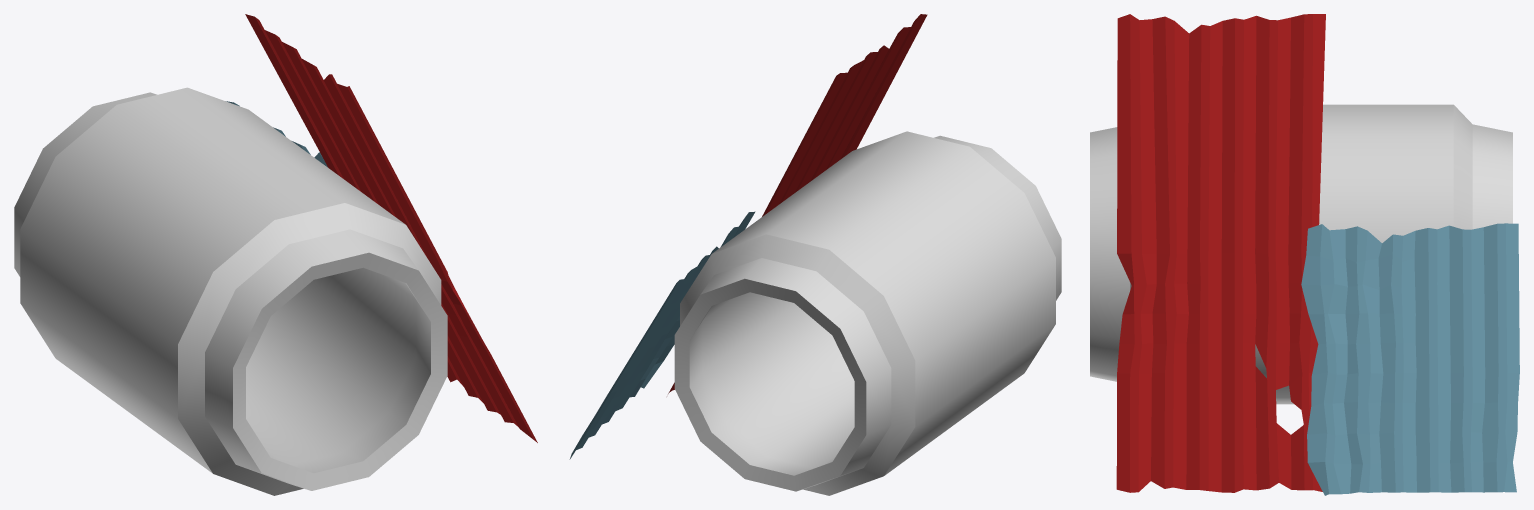
File: tambayan ni nobita.fbx
3 renders of one model, left to right at view 1: azimuth 30°, elevation 25°; view 2: azimuth 150°, elevation 25°; view 3: azimuth 270°, elevation 25°, orthographic. The views are drawn at different scales.
Visible parts, largest first — view 1: Cylinder.001, Plane.006; view 2: Cylinder.001, Plane.006; view 3: Plane.006, Cylinder.001.
Part boxes in pixels (x1,y1,x2,y2): Cylinder.001: (14,87,447,495); Plane.006: (226,14,537,442); Cylinder.001: (674,131,1061,495); Plane.006: (569,14,927,459); Plane.006: (1116,14,1519,495); Cylinder.001: (1090,104,1512,404).
Bounding box in the file's own units: 190 × 197 × 196.
